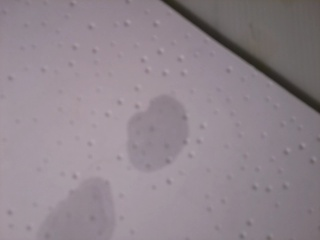Water_detected: (126, 101, 180, 161), (54, 190, 109, 238)
